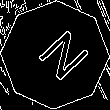N_SW: (23, 23, 87, 87)
